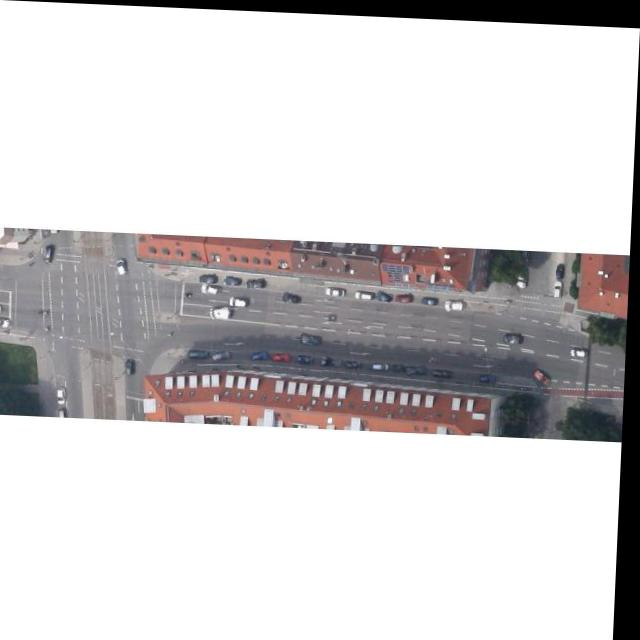vehicle: (536, 364, 555, 381), (211, 303, 234, 317), (447, 294, 469, 306), (506, 327, 526, 339), (303, 331, 324, 342), (248, 275, 269, 286), (204, 282, 223, 293), (118, 256, 130, 273), (325, 354, 345, 364), (410, 361, 430, 371), (254, 347, 272, 358), (201, 271, 220, 281), (520, 263, 530, 282), (572, 342, 591, 352), (379, 287, 396, 298), (45, 244, 55, 262), (192, 348, 212, 357), (216, 347, 234, 357), (276, 349, 294, 359), (286, 290, 304, 299), (232, 295, 250, 304), (483, 369, 498, 379), (129, 357, 138, 373), (424, 291, 440, 300), (399, 289, 415, 298), (357, 287, 375, 295), (328, 284, 346, 292), (437, 365, 455, 373), (0, 317, 13, 328), (301, 353, 317, 361), (349, 358, 364, 366), (226, 274, 243, 281), (62, 387, 69, 403), (556, 276, 563, 292), (376, 359, 392, 366), (396, 360, 408, 369), (559, 258, 566, 272)
